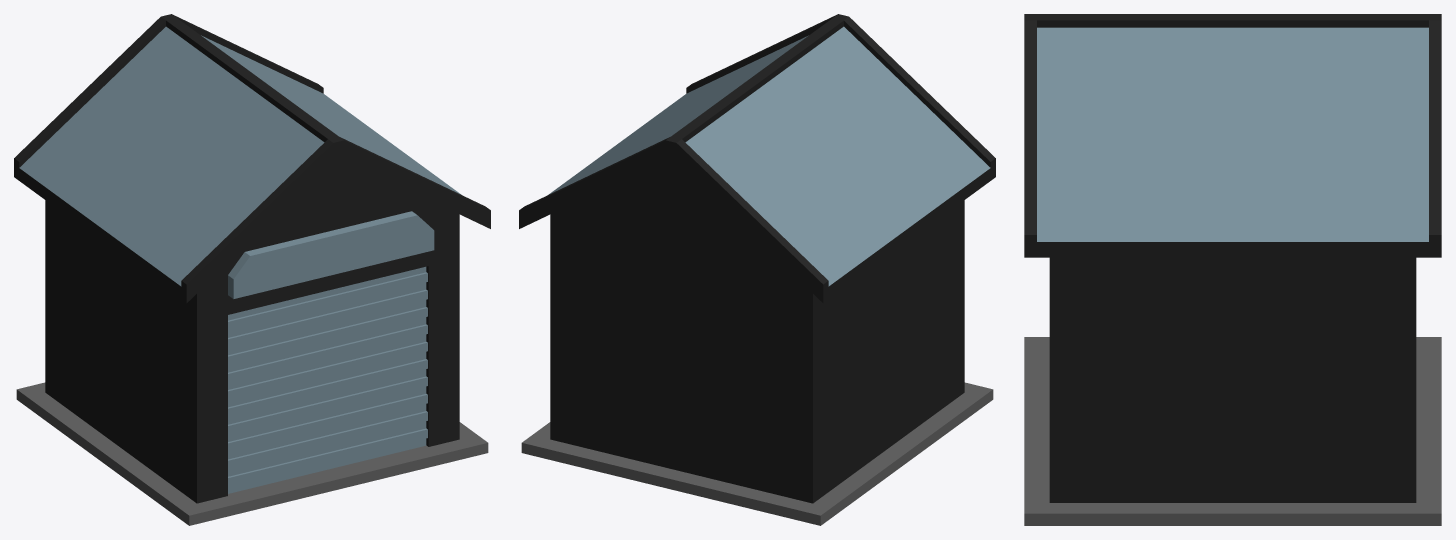
File: BasicWorkshop.fbx
The picture shows the model from 3 angles, left to right: view 1: azimuth 30°, elevation 25°; view 2: azimuth 150°, elevation 25°; view 3: azimuth 270°, elevation 25°; orthographic projection. The views are drawn at different scales.
Parts seen in each view (by area): view 1: Workshop, DoorPiece2, DoorPiece1, WorkshopFloor, DoorPiece3, WorkshopSign; view 2: Workshop, WorkshopFloor; view 3: Workshop, WorkshopFloor.
Part boxes in pixels (x1,y1,x2,y2): Workshop: (14, 14, 490, 503); DoorPiece2: (228, 324, 427, 434); DoorPiece1: (228, 386, 427, 493); WorkshopFloor: (16, 382, 488, 525); DoorPiece3: (228, 266, 427, 372); WorkshopSign: (228, 211, 434, 298); Workshop: (519, 14, 995, 503); WorkshopFloor: (521, 382, 993, 525); Workshop: (1024, 14, 1441, 502); WorkshopFloor: (1024, 337, 1441, 525).
Bounding box in the file's own units: 519 × 567 × 510.
